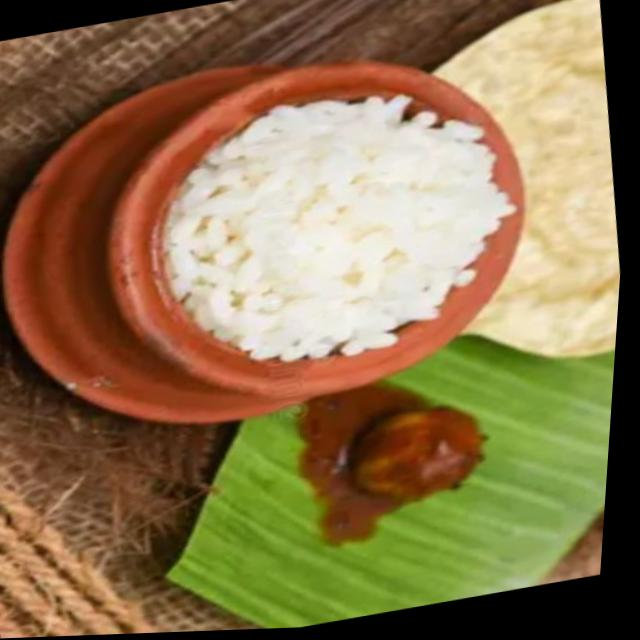PAPADAM: (415, 0, 620, 373)
PICKLE: (298, 381, 486, 547)
RICE: (169, 94, 520, 362)
